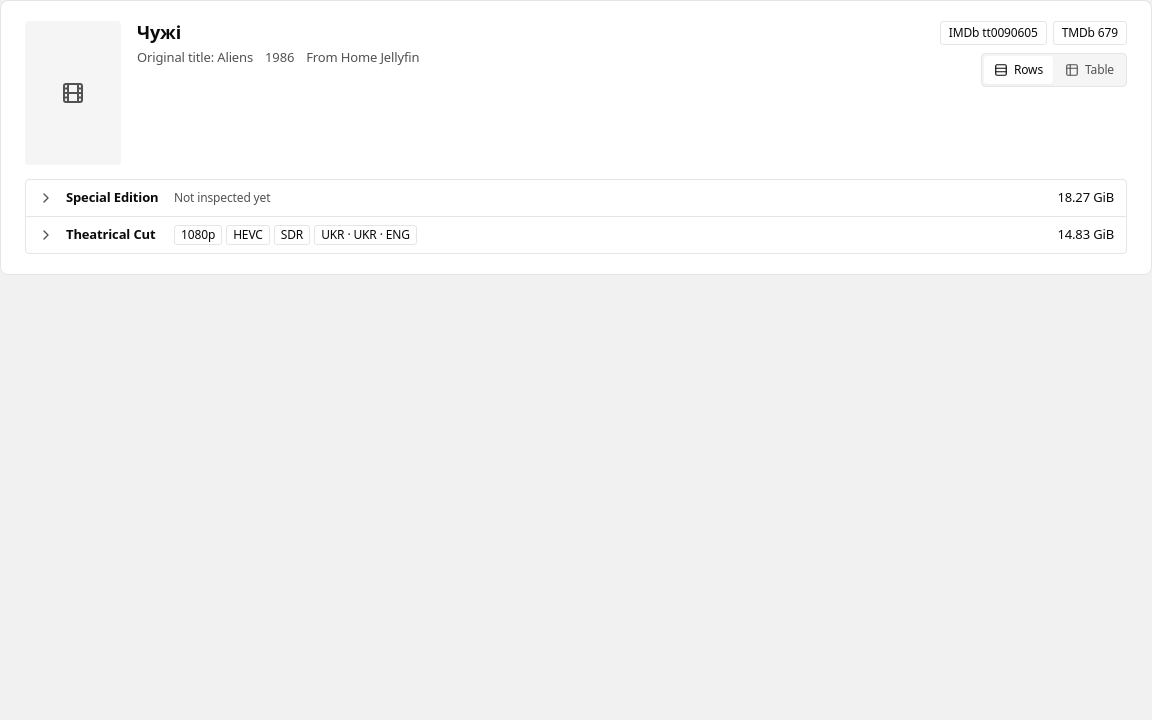
Scenario: LibraryWorkCard versions › as rows › sums up a version of several files by its first, adds their sizes, and lists them all once open
What coordinates should you click on to do the following:
click the button "Theatrical Cut 1080p HEVC SDR UKR · UKR · ENG 14.83 GiB"
I would click on:
 (111, 234)
Its box is [26,216,1126,252].
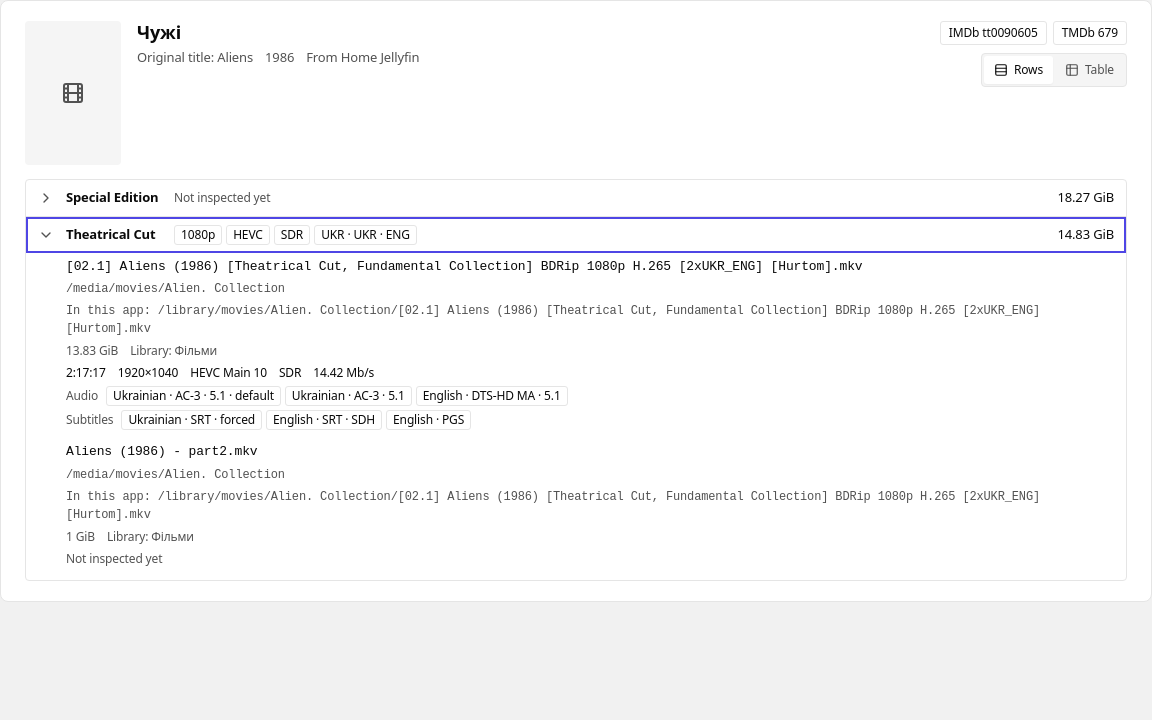
Now the text "[02.1] Aliens (1986)" is shown, box [66,258,862,274]
Now the text "Aliens (1986) - part2.mkv" is shown, box [66,444,258,459]
